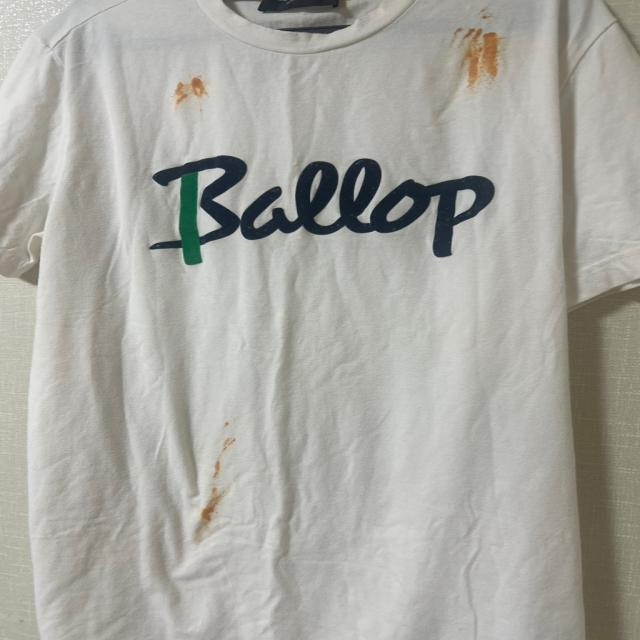stain: (458, 25, 508, 85), (170, 74, 210, 108), (480, 4, 496, 20), (222, 437, 236, 453), (202, 508, 215, 521), (207, 497, 220, 510), (213, 459, 221, 478), (222, 420, 238, 428), (210, 488, 219, 496), (220, 492, 229, 500), (217, 451, 222, 460)
